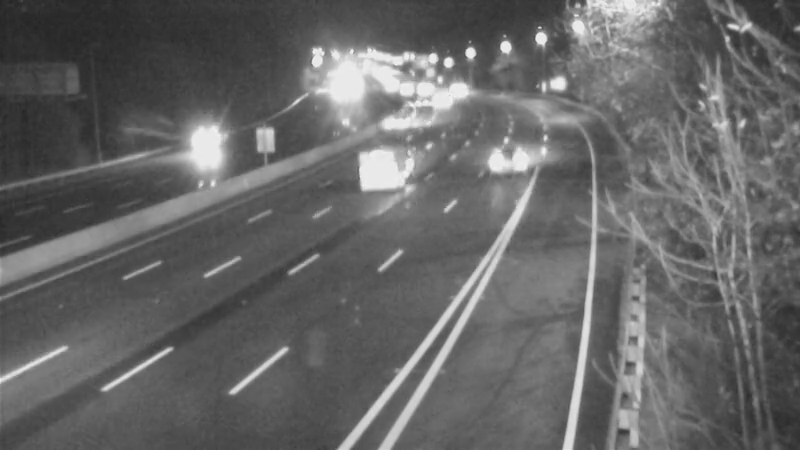vehicle: (344, 127, 424, 207), (467, 119, 547, 199), (430, 69, 480, 119), (378, 65, 428, 115), (401, 66, 451, 116), (414, 75, 464, 125), (390, 80, 440, 130), (372, 97, 422, 147), (182, 118, 232, 168)
